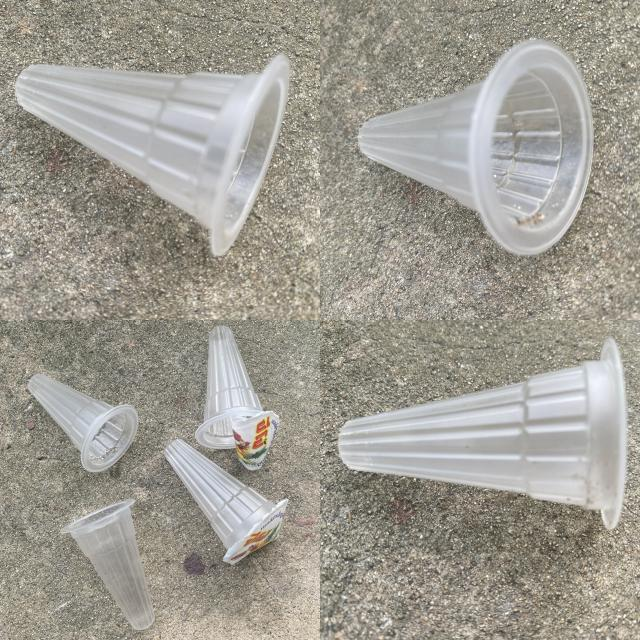Single-Use-Plastic: (16, 55, 290, 256), (339, 339, 626, 529), (358, 40, 594, 254), (165, 440, 288, 564), (61, 499, 155, 630), (196, 326, 279, 470), (29, 375, 139, 472)
